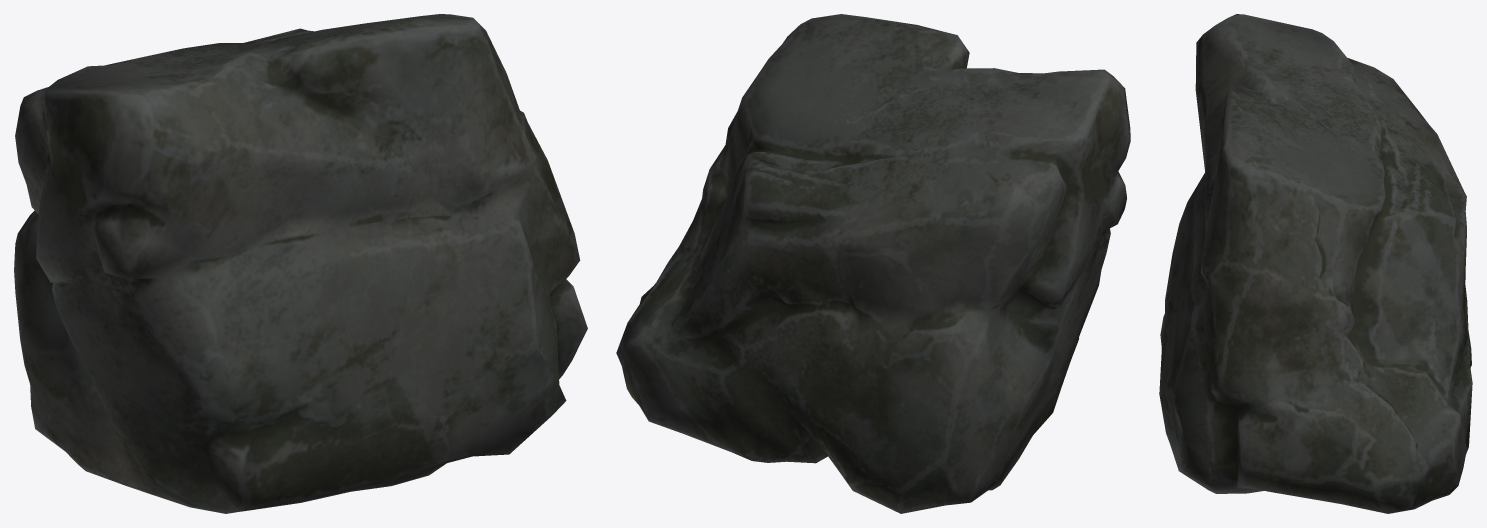
3 views of the same model, side by side, from view 1: azimuth 30°, elevation 25°; view 2: azimuth 150°, elevation 25°; view 3: azimuth 270°, elevation 25° (orthographic). The views are drawn at different scales.
Parts seen in each view (by area): view 1: models_mountain_chunk_b-0-lambert1; view 2: models_mountain_chunk_b-0-lambert1; view 3: models_mountain_chunk_b-0-lambert1.
Boxes of the visible parts, x1,y1,x2,y2 form: models_mountain_chunk_b-0-lambert1: [14, 14, 587, 513]; models_mountain_chunk_b-0-lambert1: [616, 14, 1130, 513]; models_mountain_chunk_b-0-lambert1: [1159, 14, 1472, 513].
Size of the model in its own units: 8.77 by 7.42 by 5.95.
1 material, 1 textured.
